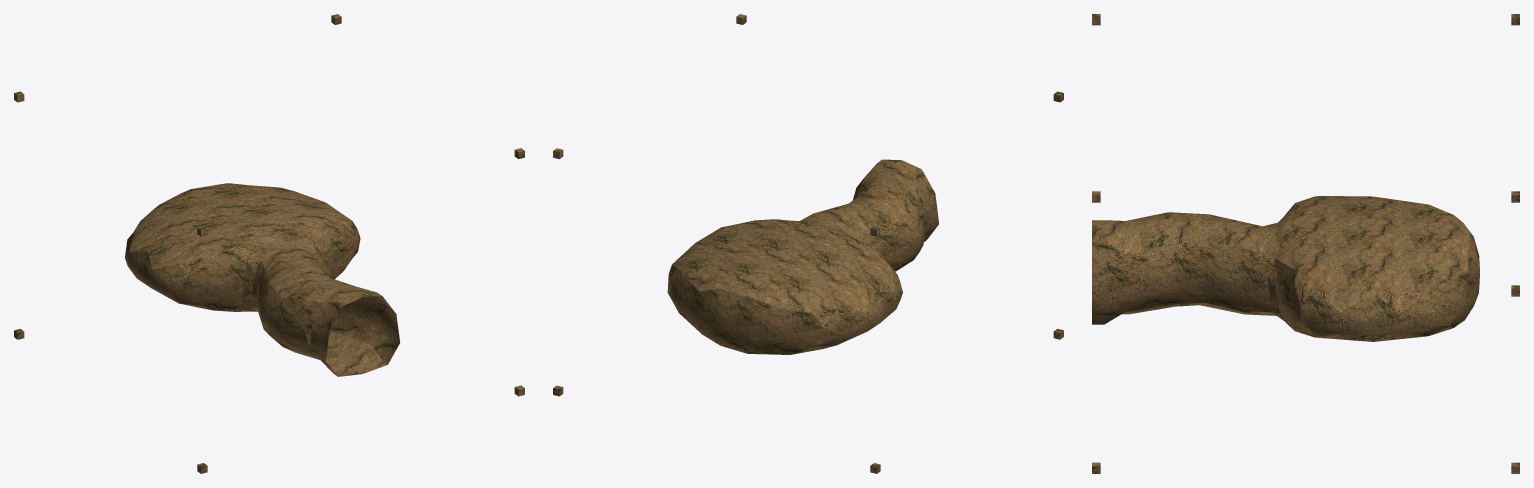
File: lba_1c.glb
3 renders of one model, left to right at view 1: azimuth 30°, elevation 25°; view 2: azimuth 150°, elevation 25°; view 3: azimuth 270°, elevation 25°, orthographic. The views are drawn at different scales.
Parts seen in each view (by area): view 1: lba_1c-col; view 2: lba_1c-col; view 3: lba_1c-col.
Boxes of the visible parts, x1,y1,x2,y2 form: lba_1c-col: [14, 14, 524, 473]; lba_1c-col: [553, 14, 1063, 473]; lba_1c-col: [1092, 14, 1519, 473].
Size of the model in its own units: 15 by 10.8 by 15.
Materials: 1 (1 with a texture image).
